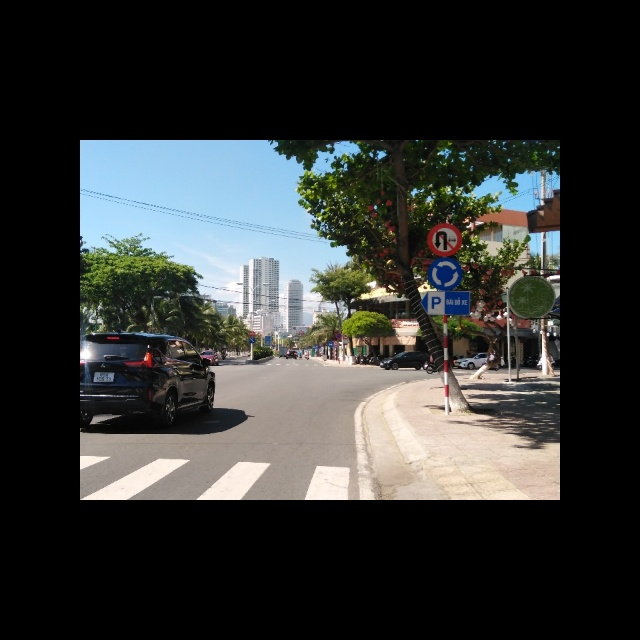Cấm xe ô tô quay đầu: (429, 224, 463, 255)
Nơi giao nhau chạy theo vòng xuyến: (429, 258, 461, 290)
Nơi đỗ xe: (419, 290, 472, 316)
